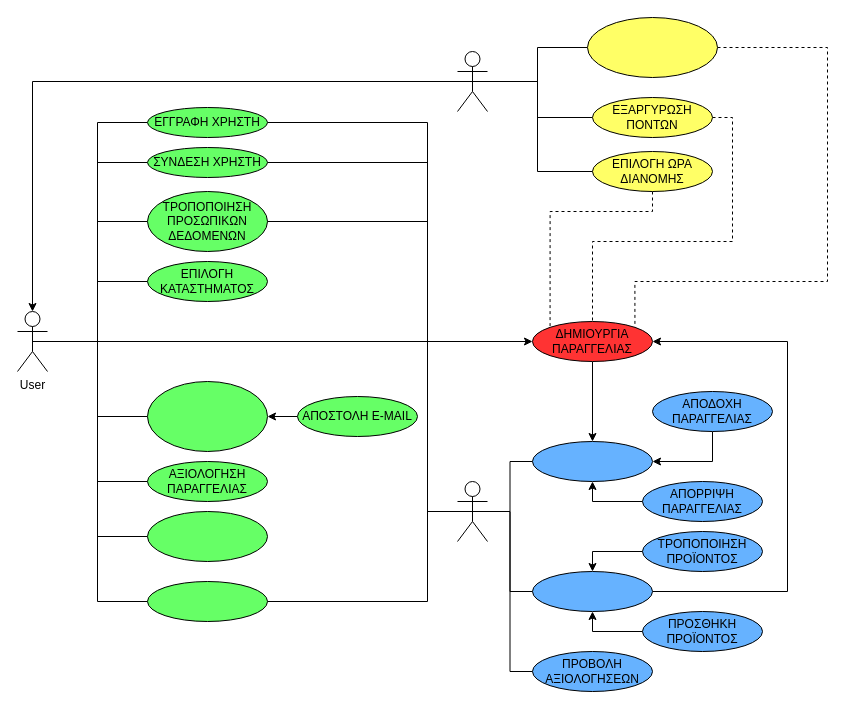
This 846x709 diagram has some shape labels left out. Each missing label, with the centre of its shape:
"Business" belongs at pixel 472 511.
"Premium User" belongs at pixel 472 81.
"ΑΠΟΣΥΝΔΕΣΗ" belongs at pixel 207 601.
"ΔΗΛΩΣΗ ΑΓΑΠΗΜΕΝΩΝ ΠΡΟΪΟΝΤΩΝ" belongs at pixel 207 536.
"ΔΙΑΧΕΙΡΙΣΗ ΠΡΟΪΟΝΤΩΝ" belongs at pixel 592 591.
"ΕΜΦΑΝΙΣΗ ΑΠΟΤΕΛΕΣΜΑΤΩΝ/ ΥΠΟΒΟΛΗ ΠΑΡΑΓΓΕΛΙΑΣ" belongs at pixel 207 416.
"ΜΕΙΩΜΕΝΟ ΚΟΣΤΟΣ ΠΑΡΑΓΓΕΛΙΑΣ" belongs at pixel 652 47.
"ΠΡΟΒΟΛΗ ΠΑΡΑΓΓΕΛΙΩΝ" belongs at pixel 592 461.
